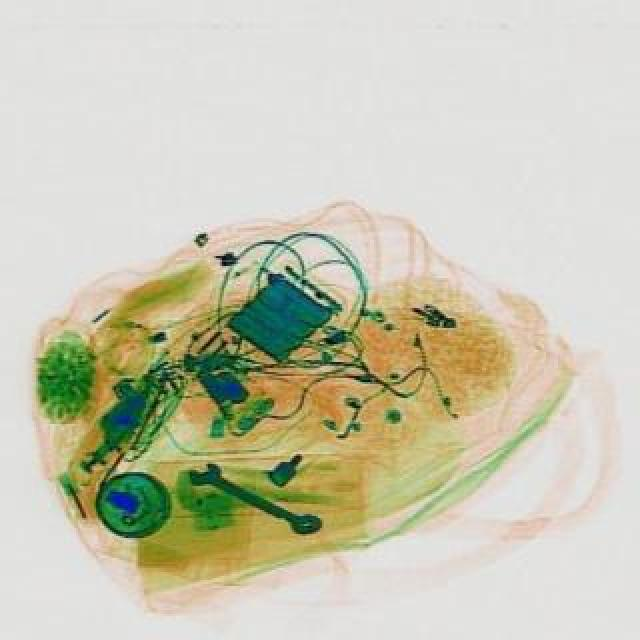scissors: (186, 454, 330, 542)
